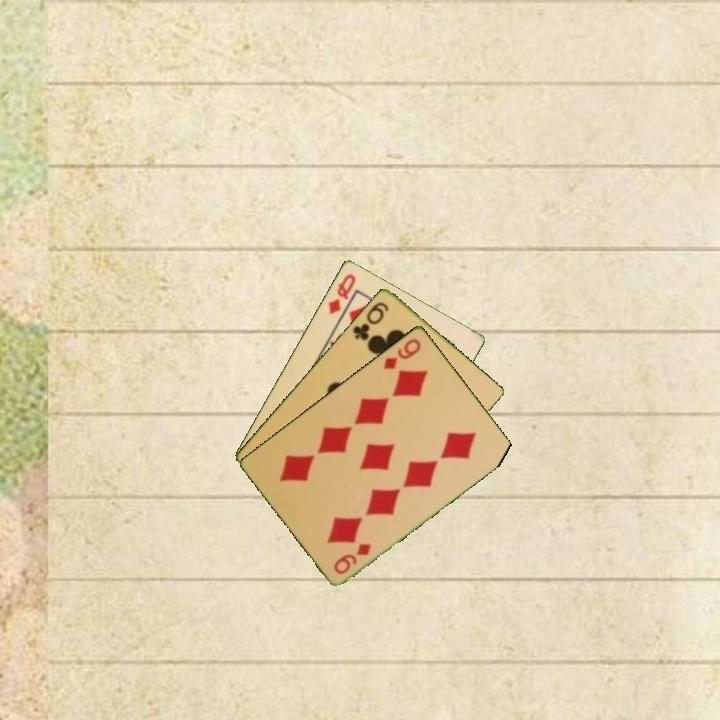6c: (349, 298, 392, 343)
9d: (380, 334, 424, 372), (330, 539, 374, 577)
Qd: (325, 270, 358, 317)
